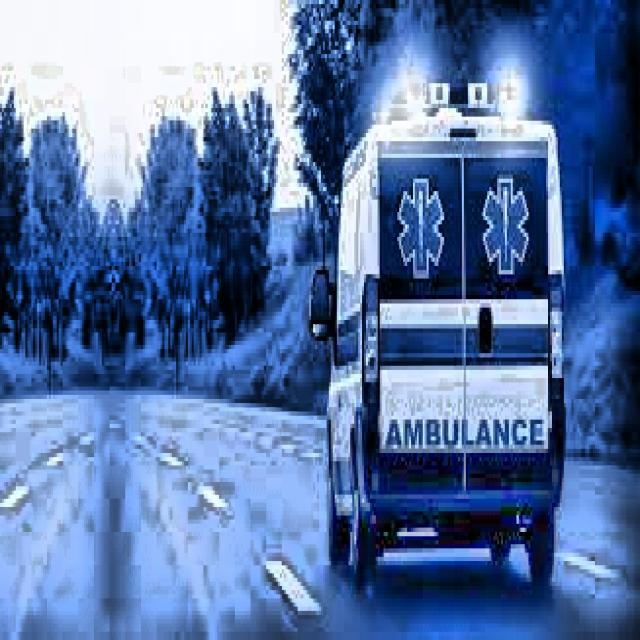Ambulance: (311, 83, 564, 586)
